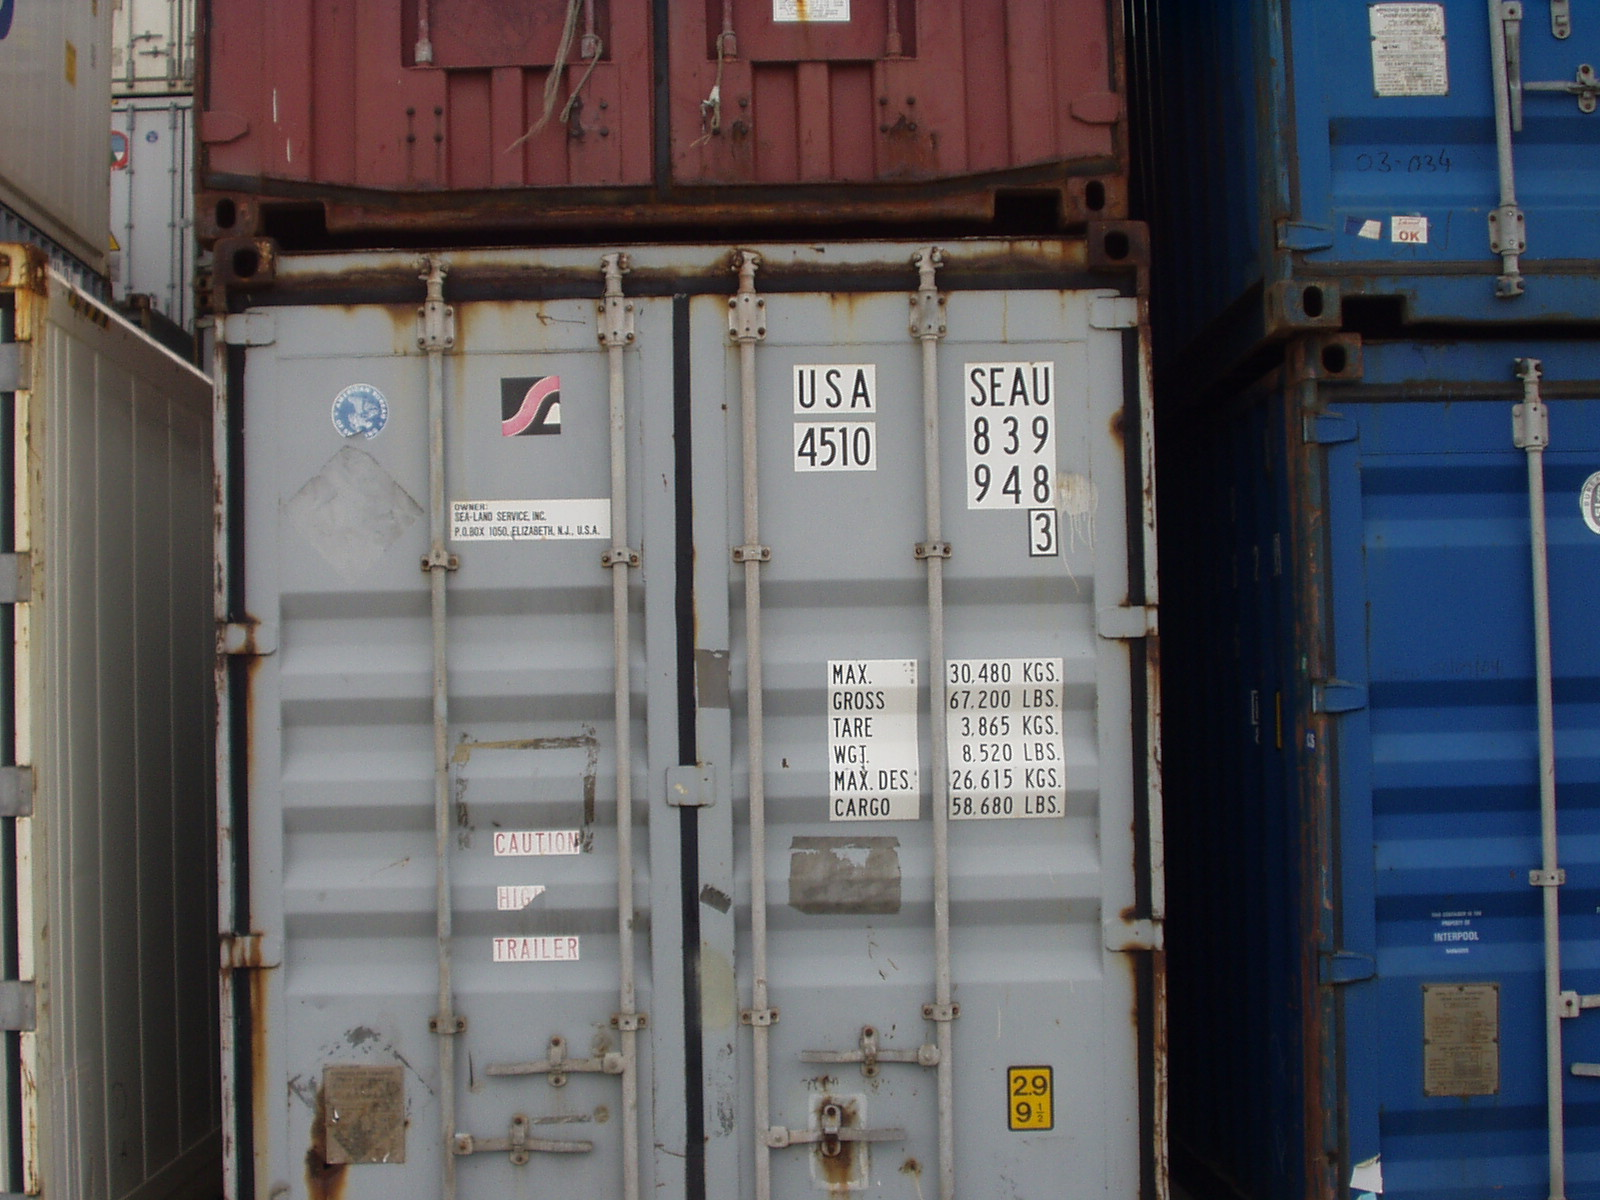container_door: (191, 229, 1178, 1197)
